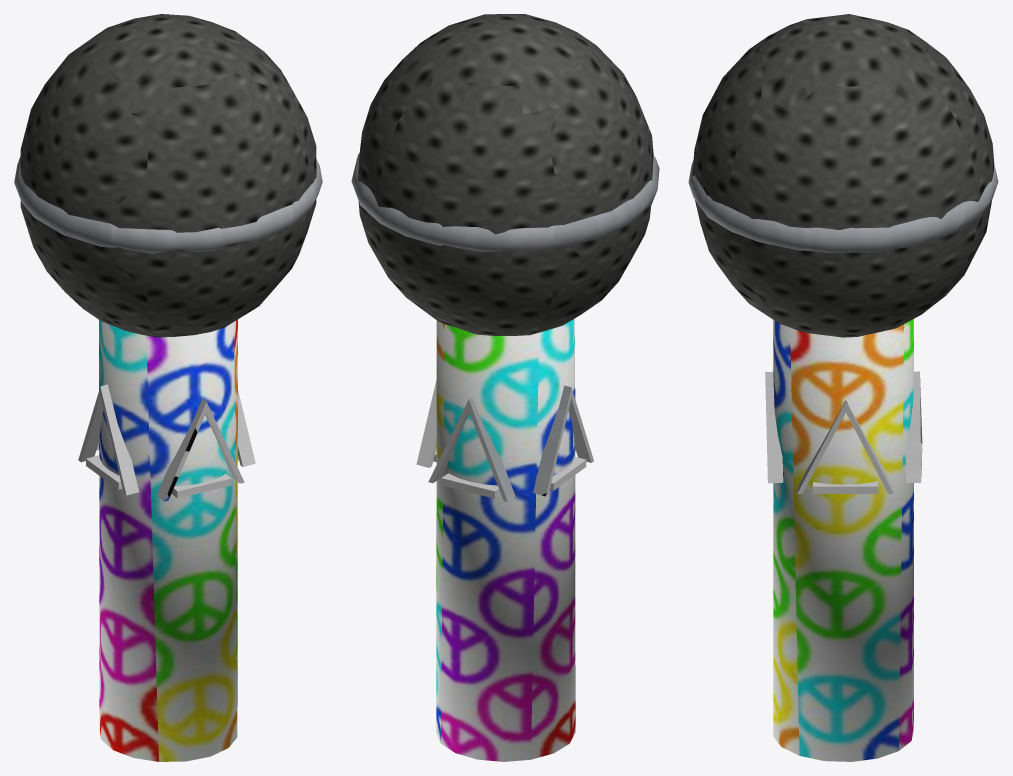
File: mic4.dae
The picture shows the model from 3 angles, left to right: view 1: azimuth 30°, elevation 25°; view 2: azimuth 150°, elevation 25°; view 3: azimuth 270°, elevation 25°; orthographic projection.
Parts seen in each view (by area): view 1: Torus; view 2: Torus; view 3: Torus.
Part boxes in pixels (<box>): Torus: <box>14,14,322,761</box>; Torus: <box>351,14,659,761</box>; Torus: <box>688,14,998,761</box>.
Bounding box in the file's own units: 0.0469 × 0.0472 × 0.1186.
Materials: 1 (1 with a texture image).
